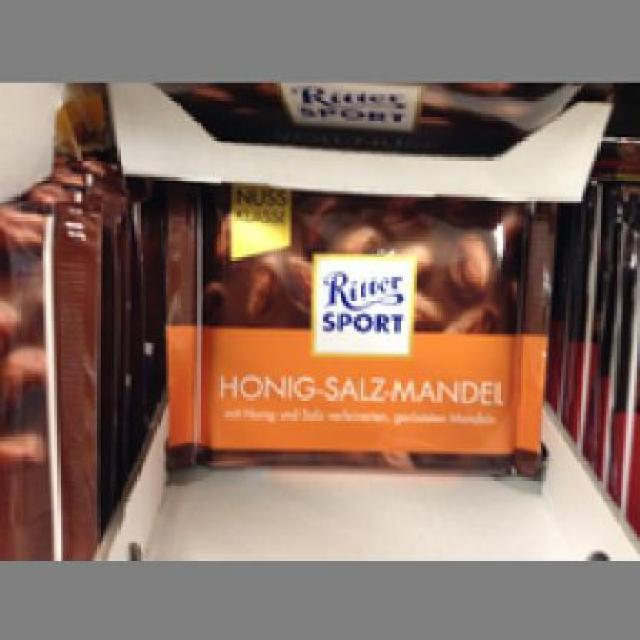Chocolate: (157, 180, 557, 483)
